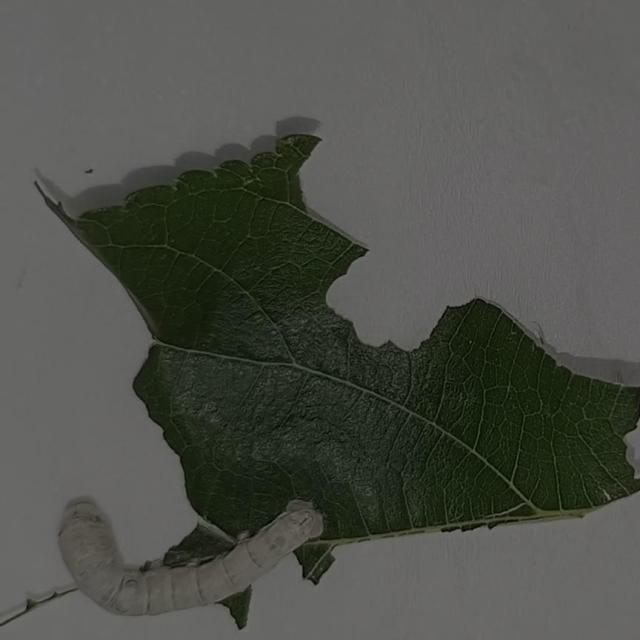Healthy: (42, 470, 333, 630)
